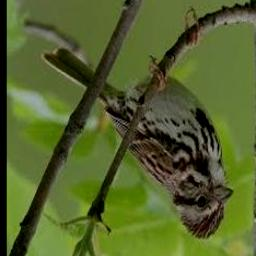Sparrow: (43, 9, 234, 238)
